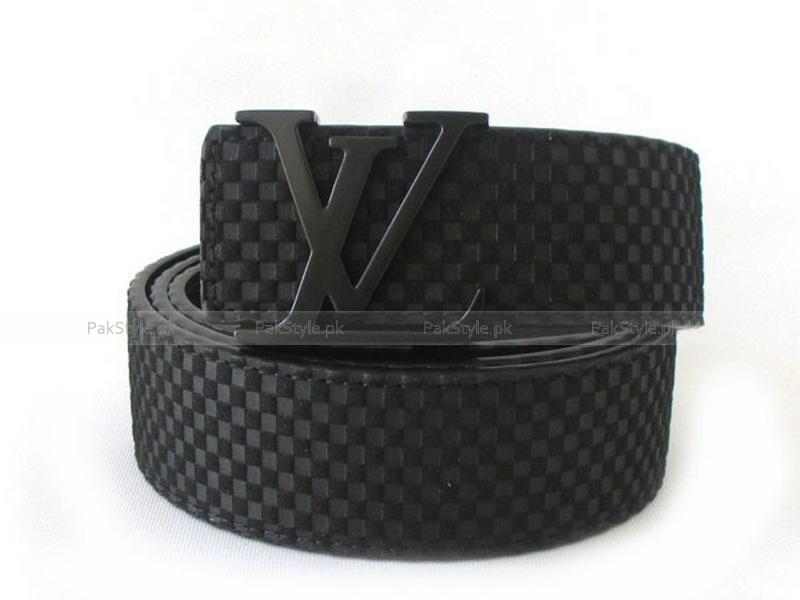LOUIS-VUITTON: (231, 107, 491, 346)
